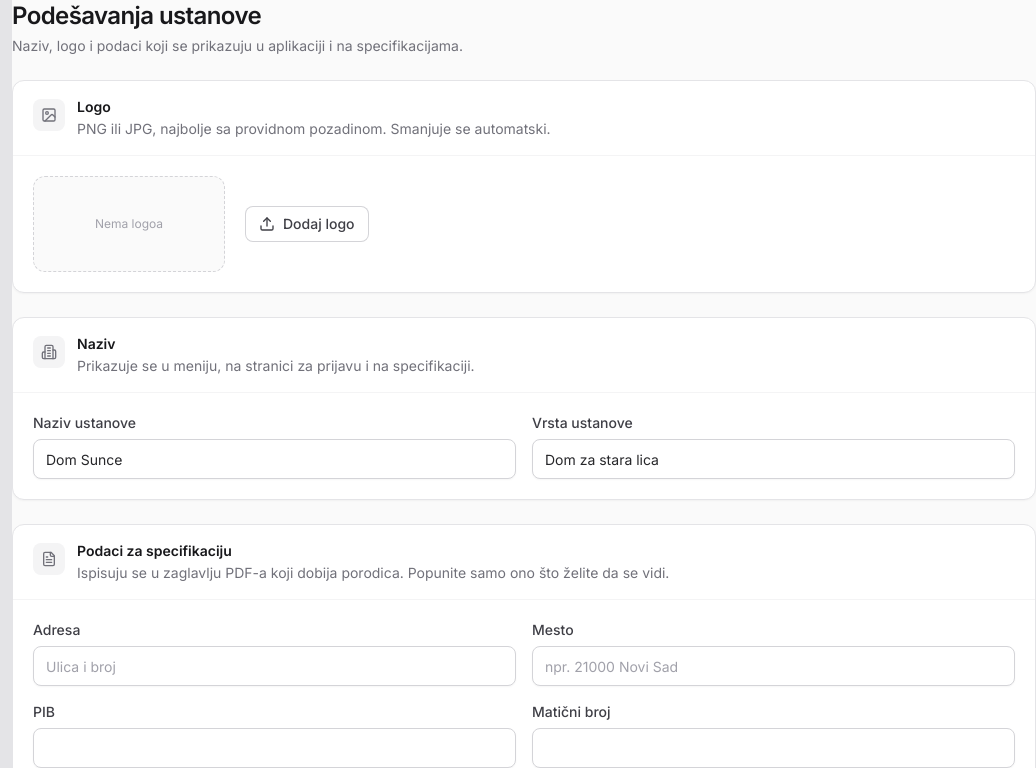
Scenario: FacilitySettingsPage › čuva izmene i pregled zaglavlja ih odmah prikazuje
Later steps or results of the test are not shown.
Type "101234567" into the field labelled "PIB".
click(274, 748); type("101234567")  # box x1=33 y1=728 x2=516 y2=767
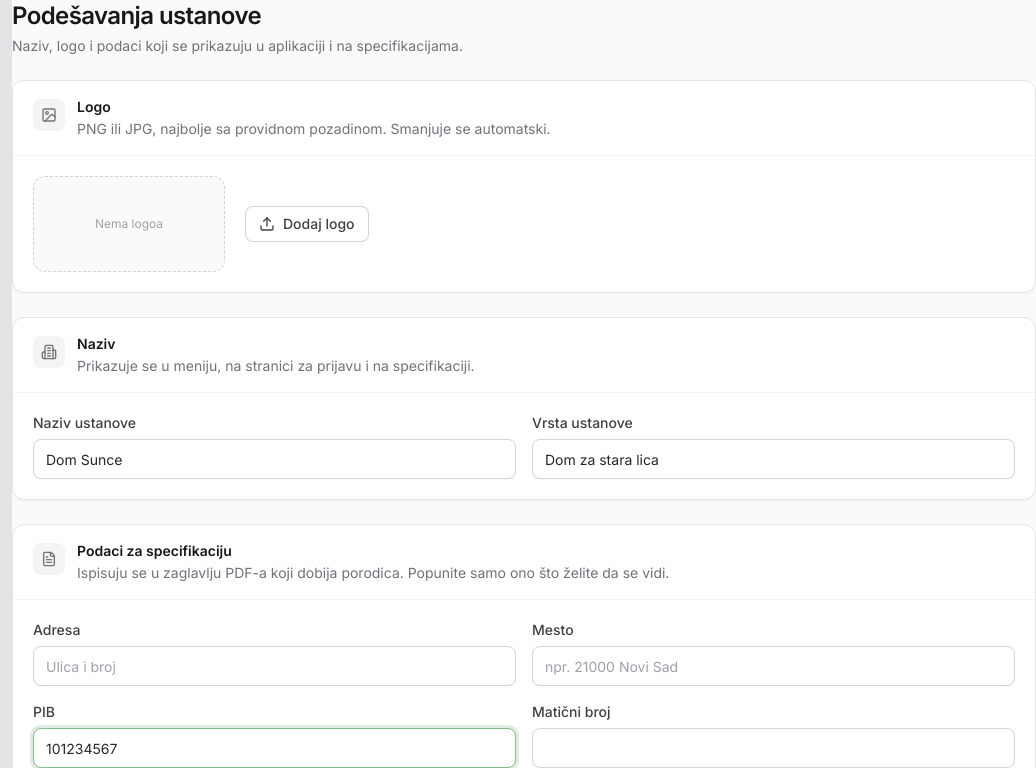
Type "Novi Sad" into the field labelled "Mesto".
click(774, 666); type("Novi Sad")  # box x1=532 y1=646 x2=1015 y2=686
(page scrolled)
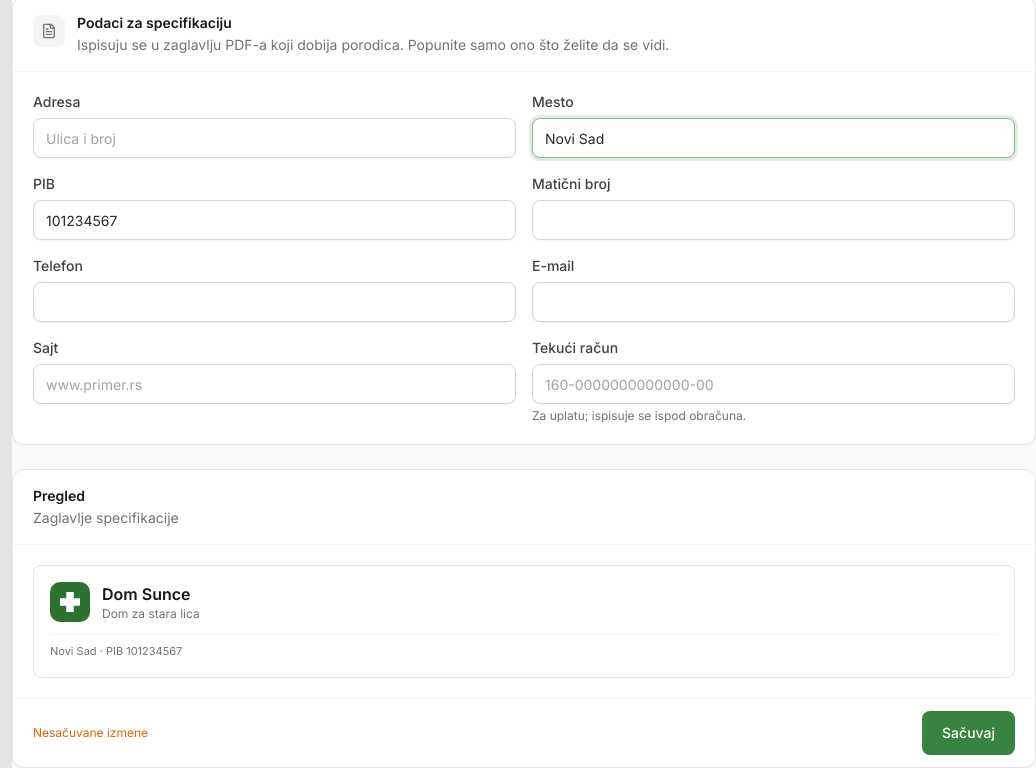
Check: the text "Novi Sad · PIB 101234567" is shown, box x1=50 y1=634 x2=998 y2=661
